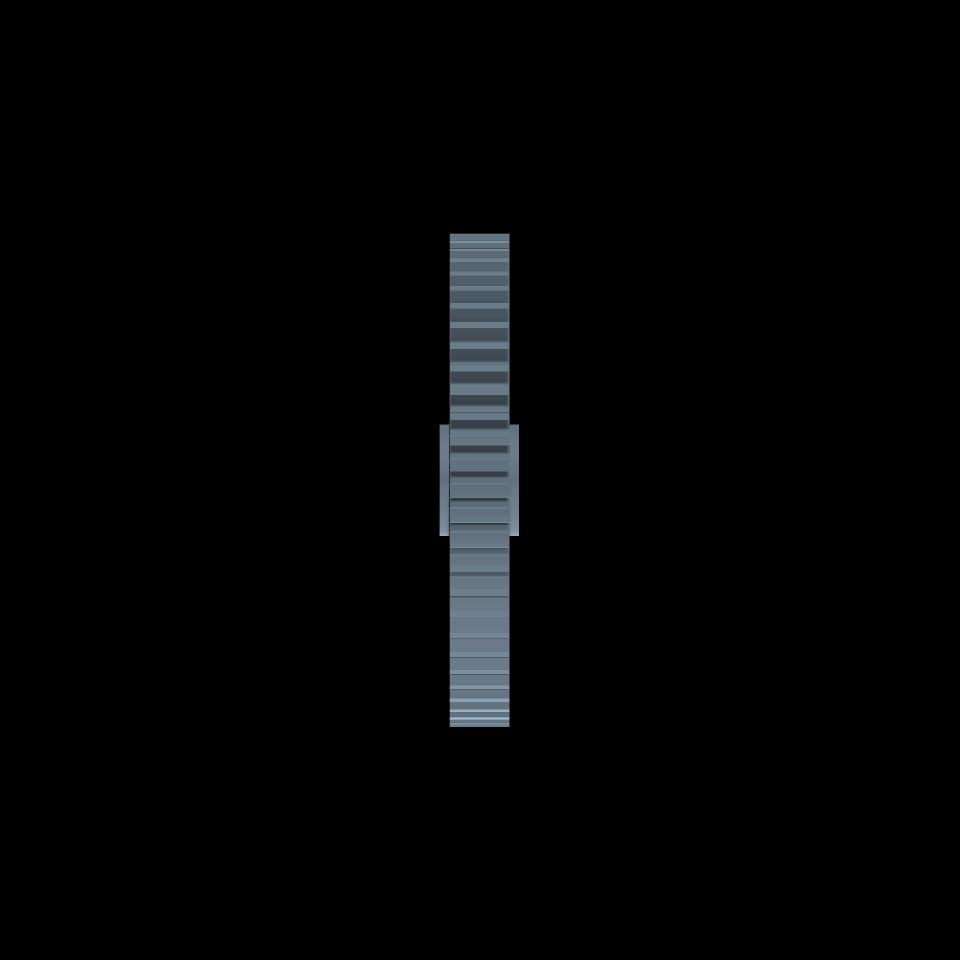Straight: (450, 234, 507, 725)
